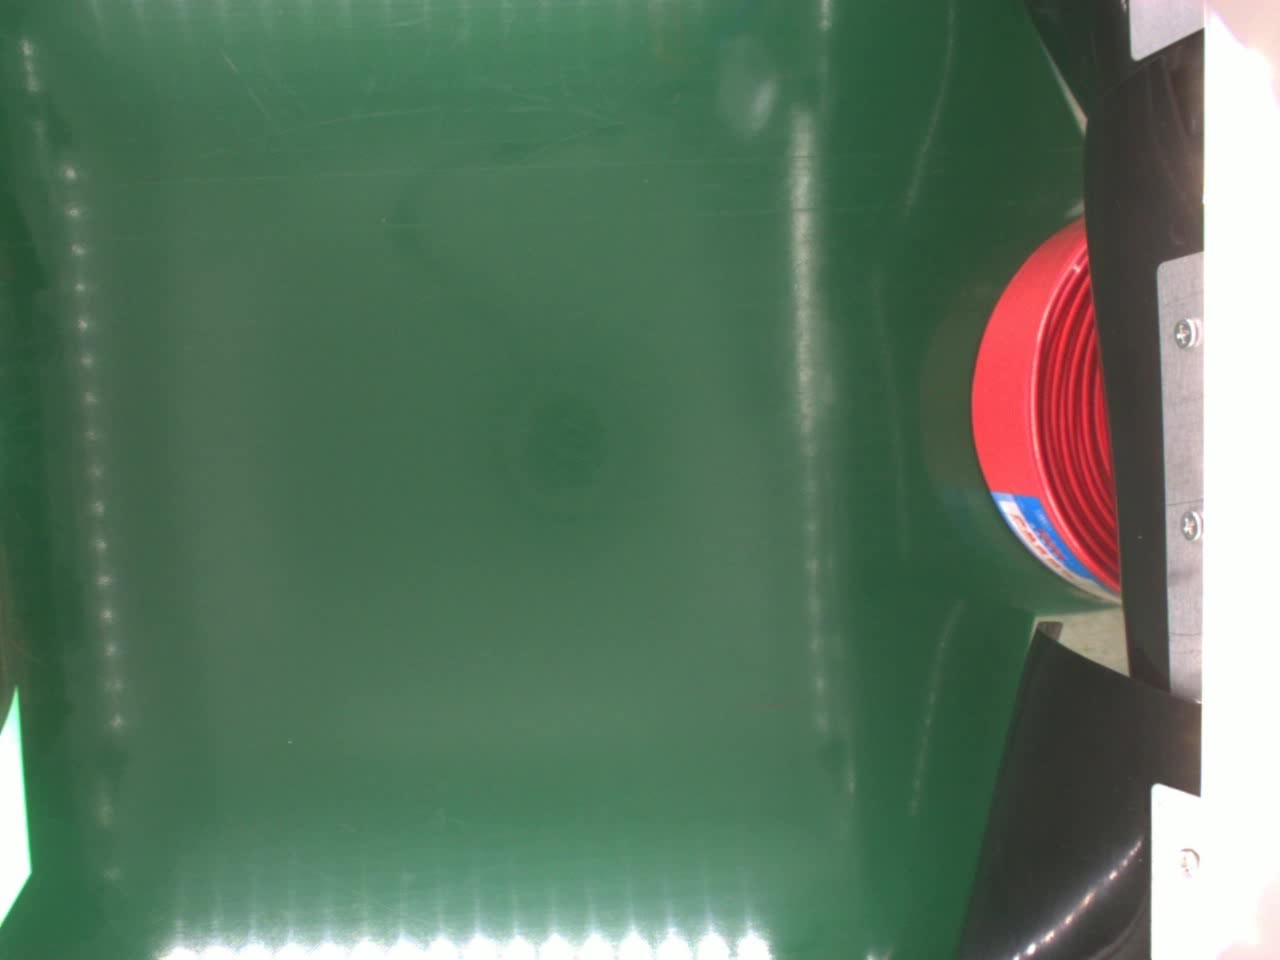red: (969, 217, 1118, 602)
